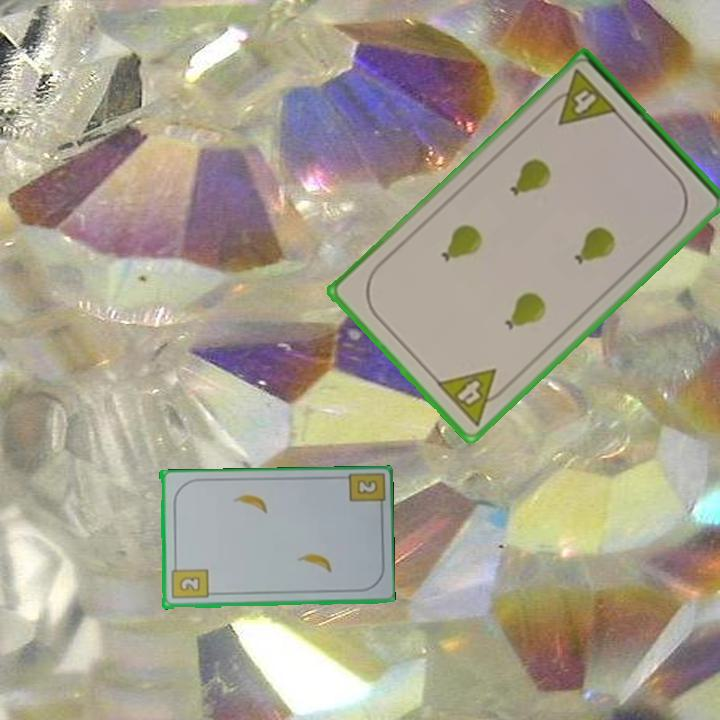2b: (168, 560, 210, 602), (353, 476, 380, 497)
4p: (432, 365, 513, 430), (542, 66, 621, 129)
